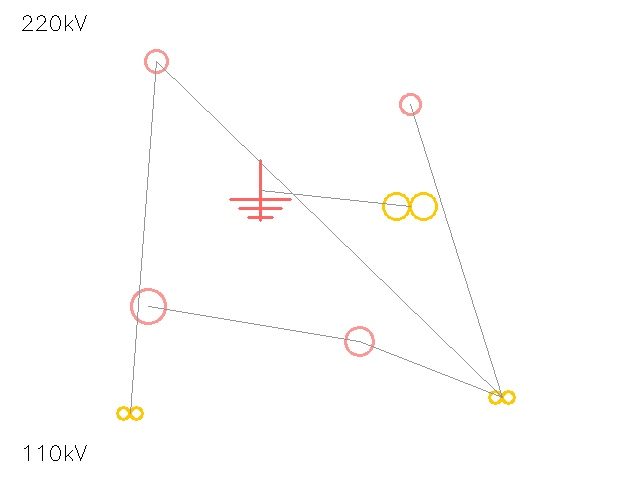ground: (230, 160, 290, 220)
load_break_switch: (114, 272, 182, 340), (134, 39, 178, 83)
reactor: (390, 84, 430, 124)
transformer_2w: (376, 172, 444, 240), (485, 380, 519, 414), (114, 397, 146, 429)
voltage_transformer: (331, 313, 387, 369)
